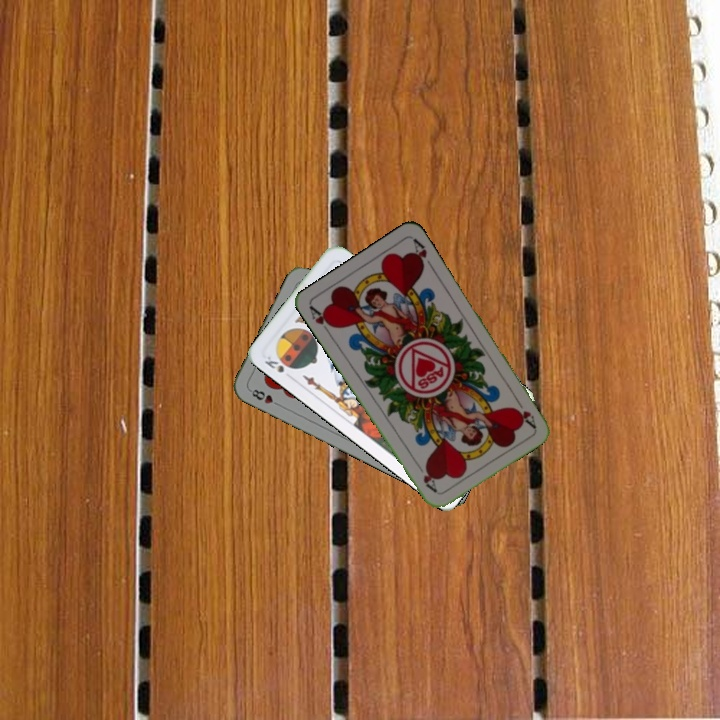H8: (246, 385, 283, 409)
HA: (306, 302, 337, 339), (511, 394, 538, 430)
SK: (260, 351, 287, 375)
